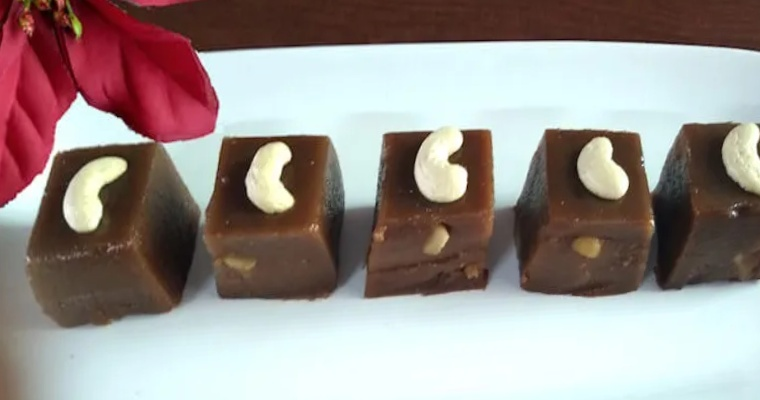dodol: (24, 127, 198, 331), (510, 124, 664, 302), (203, 131, 348, 307), (364, 125, 498, 301), (655, 117, 760, 291)
